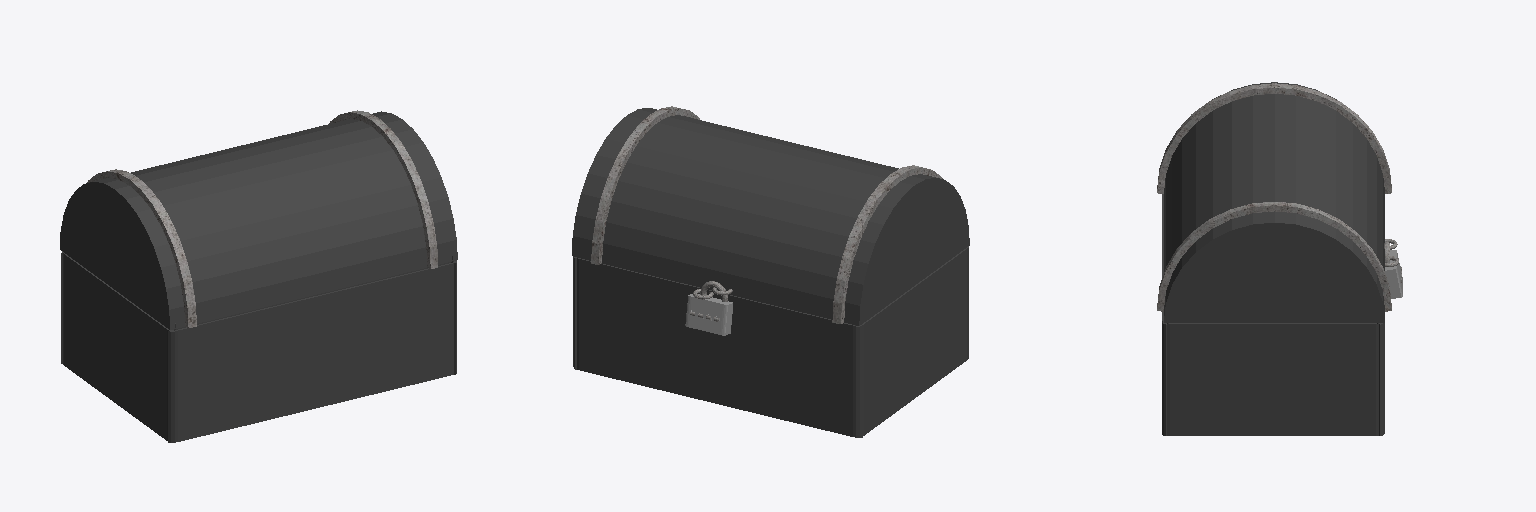
The picture shows the model from 3 angles: view 1: azimuth 30°, elevation 25°; view 2: azimuth 150°, elevation 25°; view 3: azimuth 270°, elevation 25°; orthographic projection.
Visible parts, largest first — view 1: Cylinder, Cube; view 2: Cylinder, Cube, Cube.001; view 3: Cylinder, Cube.
Boxes of the visible parts, <box> form: Cylinder: <box>60,110,457,329</box>; Cube: <box>61,251,456,442</box>; Cylinder: <box>572,106,969,325</box>; Cube: <box>573,246,968,437</box>; Cube.001: <box>685,294,732,335</box>; Cylinder: <box>1157,82,1391,322</box>; Cube: <box>1162,194,1384,435</box>.
Size of the model in its own units: 3.01 by 2.19 by 2.22.
4 materials, 1 textured.